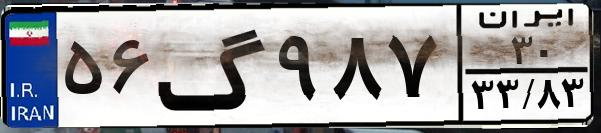0: (537, 27, 568, 80)
3: (560, 70, 590, 125), (508, 27, 537, 80), (470, 70, 495, 125), (495, 70, 520, 125)
5: (57, 26, 110, 100)
6: (110, 28, 156, 98)
7: (385, 28, 445, 110)
8: (330, 28, 385, 110), (535, 70, 560, 125)
9: (270, 28, 330, 110)
گ: (156, 12, 270, 120)
